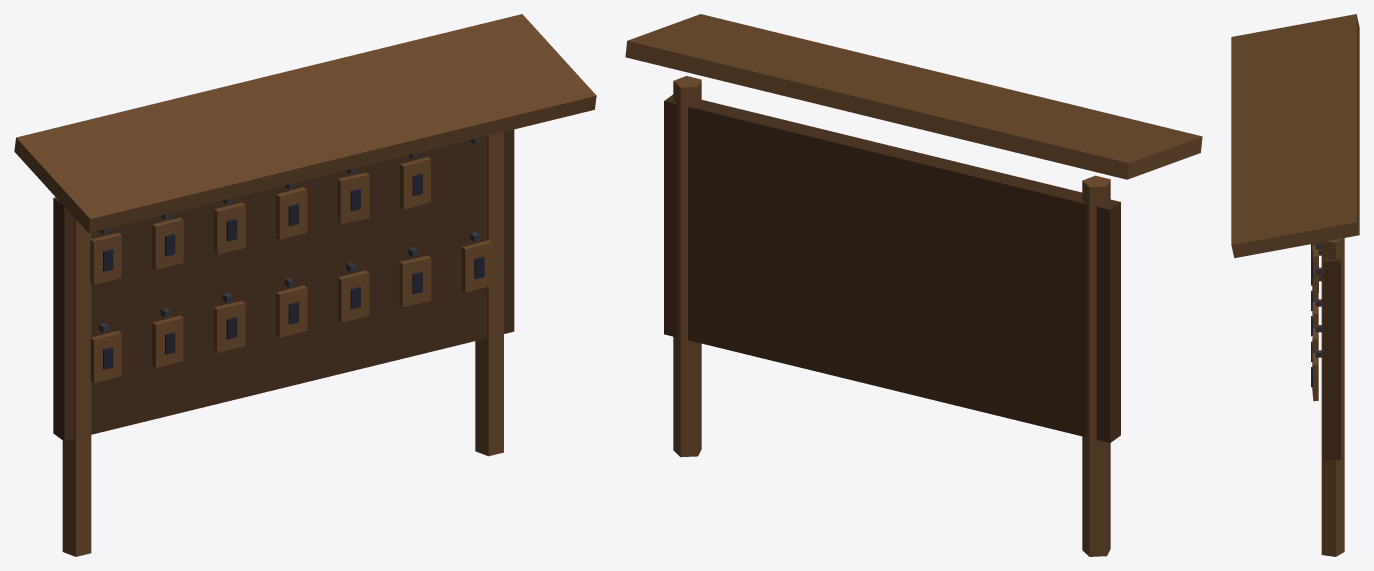
The model's file is prop_trace_mokpae_gap.glb.
3 renders of one model, left to right at view 1: azimuth 30°, elevation 25°; view 2: azimuth 150°, elevation 25°; view 3: azimuth 270°, elevation 25°, orthographic. The views are drawn at different scales.
Parts seen in each view (by area): view 1: prop_trace_mokpae_gap; view 2: prop_trace_mokpae_gap; view 3: prop_trace_mokpae_gap.
Part boxes in pixels (<box>): prop_trace_mokpae_gap: <box>14,14,596,556</box>; prop_trace_mokpae_gap: <box>625,14,1202,556</box>; prop_trace_mokpae_gap: <box>1231,14,1359,556</box>.
Bounding box in the file's own units: 2.7 × 2.11 × 0.7019.
